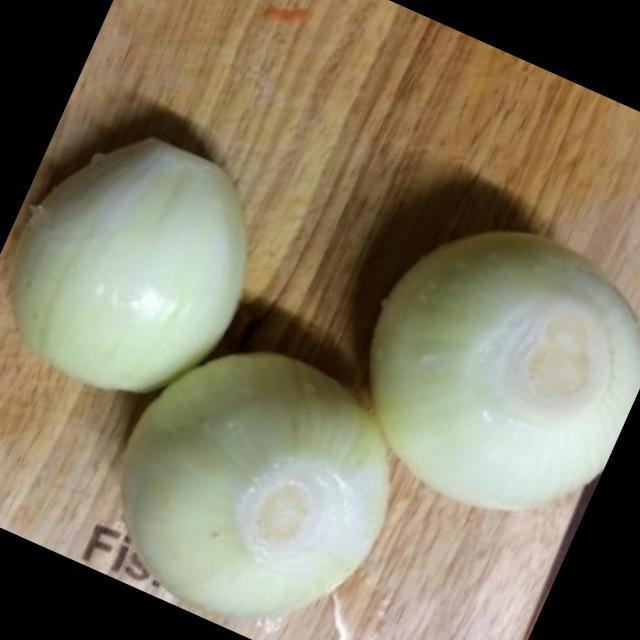Onion: (381, 231, 640, 507), (130, 357, 385, 609), (13, 145, 246, 395)
